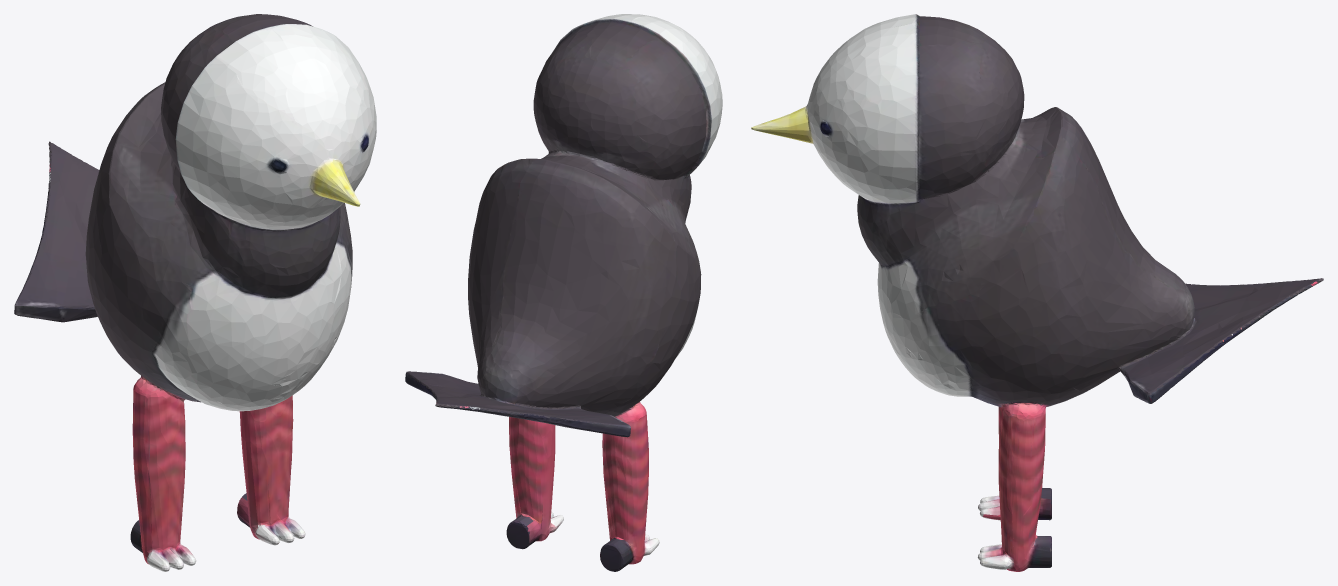
File: creature-035.lod.glb
3 renders of one model, left to right at view 1: azimuth 30°, elevation 25°; view 2: azimuth 150°, elevation 25°; view 3: azimuth 270°, elevation 25°, orthographic. The views are drawn at different scales.
Visible parts, largest first — view 1: tmpe5frivy9.ply; view 2: tmpe5frivy9.ply; view 3: tmpe5frivy9.ply.
Part boxes in pixels (x1,y1,x2,y2): tmpe5frivy9.ply: (14, 14, 376, 571); tmpe5frivy9.ply: (405, 14, 722, 571); tmpe5frivy9.ply: (751, 14, 1323, 571).
Bounding box in the file's own units: 0.9519 × 1.99 × 1.99.
1 material, 1 textured.
